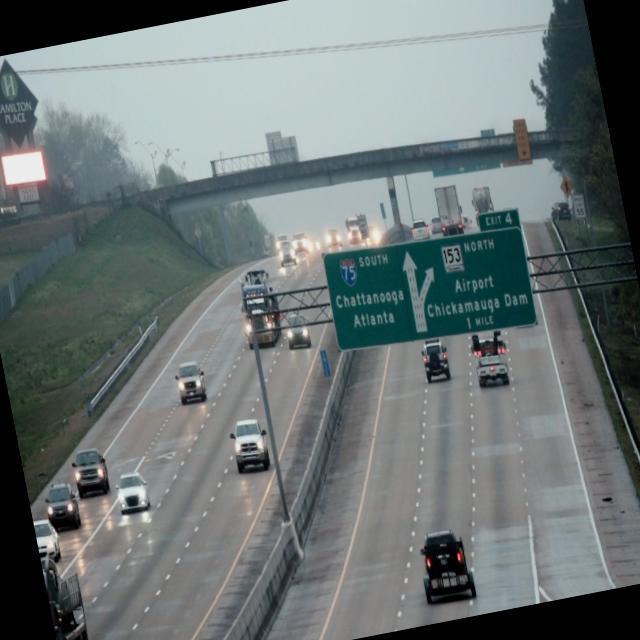Vehicle: (417, 528, 481, 608), (240, 281, 286, 348), (468, 328, 514, 393), (228, 418, 276, 479), (69, 443, 111, 498), (46, 478, 84, 534), (116, 472, 156, 518), (418, 335, 454, 385), (172, 359, 210, 406), (34, 516, 64, 566), (284, 312, 313, 354)
